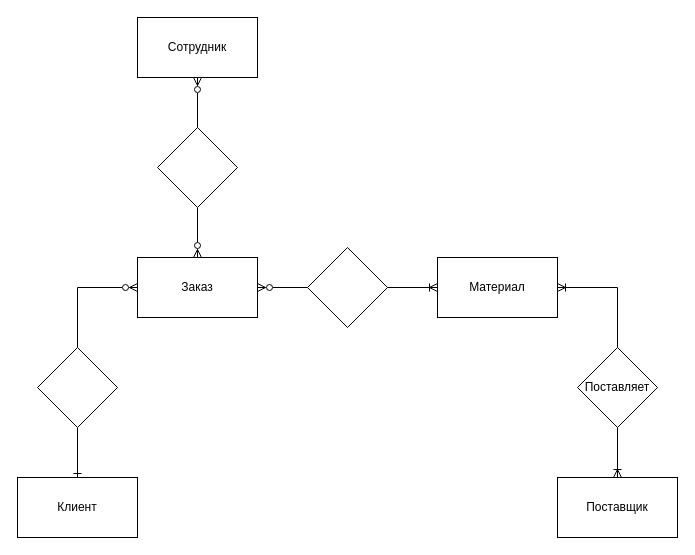
The diagram is 695 pixels wide and 555 high, and some of its shapes have lost their labels. Each missing label, with the centre of its shape:
Выполняет: [197,167]
Оформляет: [77,387]
Содержит: [347,287]
